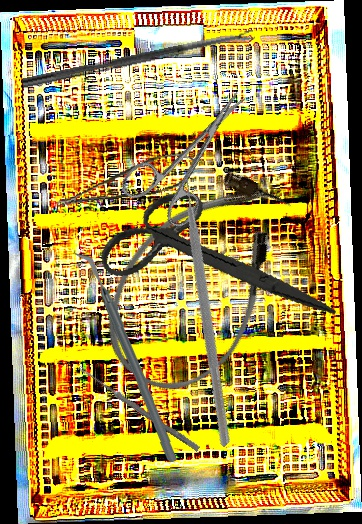Cannula: (79, 148, 318, 413)
Chopper: (72, 157, 355, 448), (69, 250, 183, 462)
Iris Scissors: (90, 165, 337, 358), (115, 70, 275, 238)
Micro Scissor: (51, 148, 202, 212)
Surgical Spoon: (21, 29, 256, 90), (77, 365, 201, 452)
